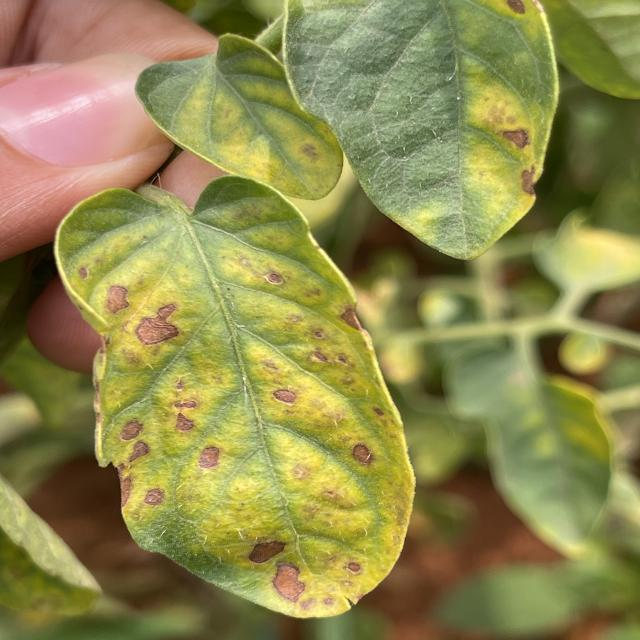tomato_early blight: (47, 186, 409, 623), (278, 0, 563, 256), (134, 26, 348, 199), (481, 376, 614, 558)
